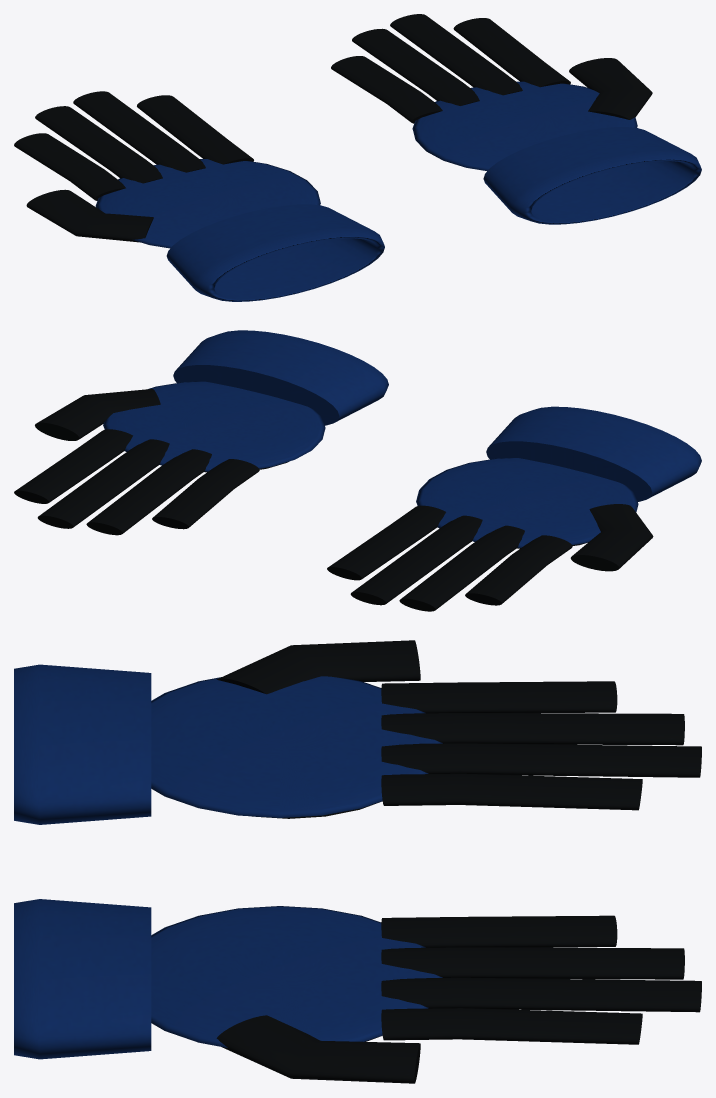
Rendered from NitrileGloves.gltf.
3 views of the same model, one above another, from view 1: azimuth 30°, elevation 25°; view 2: azimuth 150°, elevation 25°; view 3: azimuth 270°, elevation 25° (orthographic). The views are drawn at different scales.
Parts seen in each view (by area): view 1: NitrileGloves__Body; view 2: NitrileGloves__Body; view 3: NitrileGloves__Body.
Boxes of the visible parts, <box> form: NitrileGloves__Body: <box>14,14,701,301</box>; NitrileGloves__Body: <box>14,330,701,611</box>; NitrileGloves__Body: <box>14,640,701,1083</box>.
Bounding box in the file's own units: 0.3332 × 0.0286 × 0.2212.
1 material, 1 textured.
